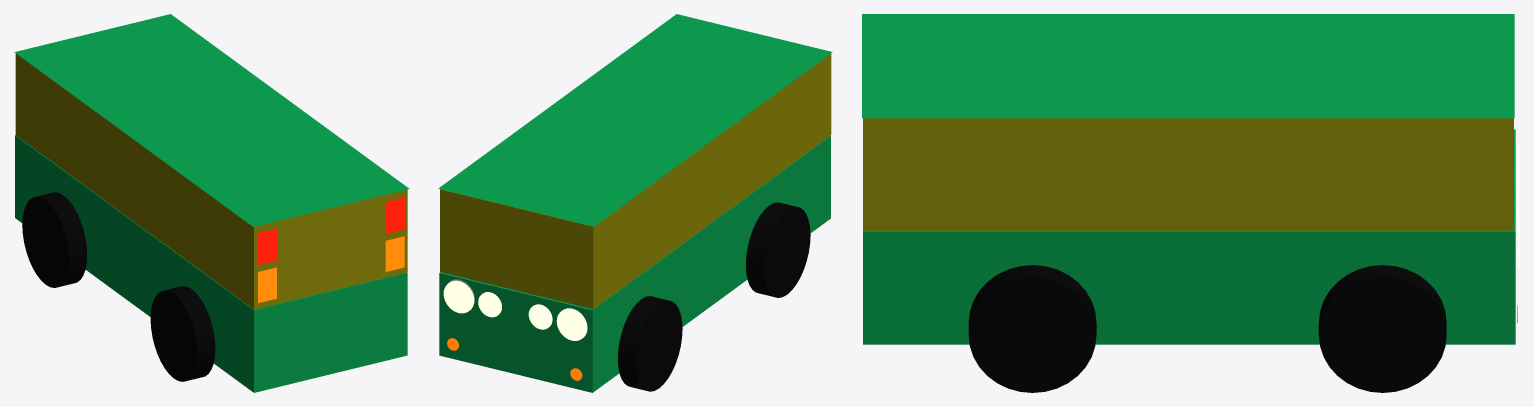
File: microbus 2.fbx
The picture shows the model from 3 angles, left to right: view 1: azimuth 30°, elevation 25°; view 2: azimuth 150°, elevation 25°; view 3: azimuth 270°, elevation 25°; orthographic projection. The views are drawn at different scales.
Parts seen in each view (by area): view 1: Plane.047, Cube.015, Cube.014, Circle.077, Circle.075, Plane.043, Plane.053, Plane.054, Plane.046; view 2: Plane.047, Cube.015, Cube.014, Circle.075, Circle.077, Circle.070, Circle.078, Circle.093, Circle.092; view 3: Cube.015, Plane.047, Cube.014, Circle.076, Circle.074.
Boxes of the visible parts, x1,y1,x2,y2 form: Plane.047: (14, 14, 409, 226); Cube.015: (15, 53, 407, 309); Cube.014: (15, 135, 407, 392); Circle.077: (150, 286, 215, 381); Circle.075: (22, 192, 87, 287); Plane.043: (257, 228, 276, 264); Plane.053: (385, 197, 404, 233); Plane.054: (385, 236, 404, 271); Plane.046: (258, 267, 276, 303); Plane.047: (438, 14, 832, 226); Cube.015: (440, 53, 831, 308); Cube.014: (439, 135, 830, 392); Circle.075: (618, 296, 682, 391); Circle.077: (746, 202, 810, 297); Circle.070: (443, 280, 474, 313); Circle.078: (556, 308, 587, 340); Circle.093: (528, 304, 552, 329); Circle.092: (478, 292, 501, 317); Cube.015: (863, 118, 1513, 230); Plane.047: (862, 14, 1514, 118); Cube.014: (863, 129, 1515, 344); Circle.076: (968, 265, 1096, 392); Circle.074: (1318, 265, 1446, 392).
Bounding box in the file's own units: 247 × 241 × 544.
